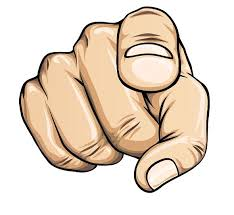hand: (11, 1, 225, 195)
